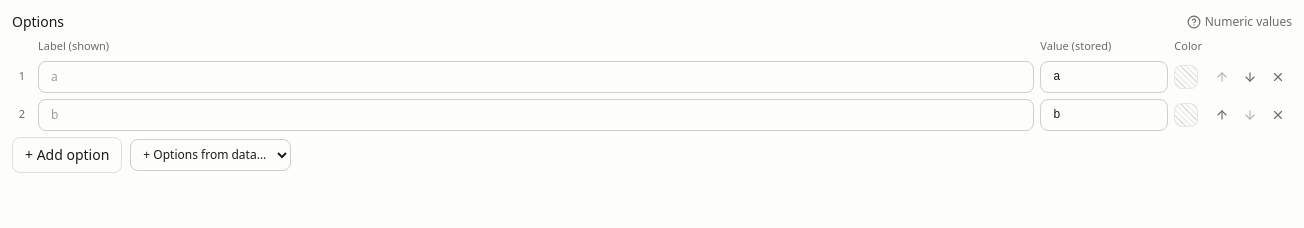
Test: OptionsEditor › options from data: a row among the options that moves, follows a removed option, and goes
The image size is (1304, 228).
Select "people (list)" in the dropdown named "Add options from data" at (211, 154), box [130, 138, 291, 170]
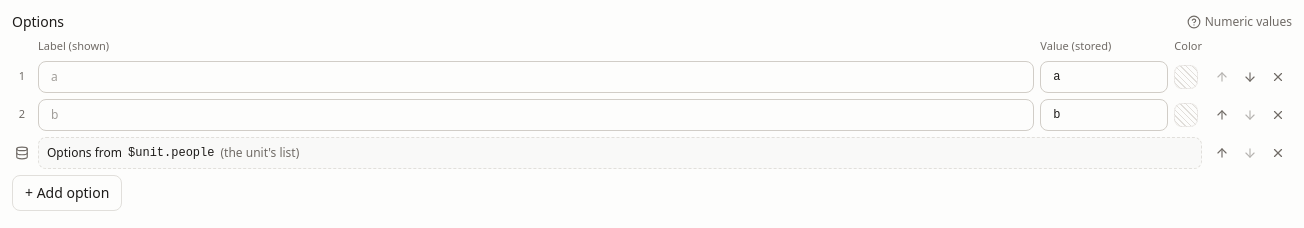
Expected: the button named "Move options from data down" is disabled, [1236, 138, 1264, 166]
Click the button named "Move options from data up".
click(1222, 152)  # box [1208, 138, 1236, 166]
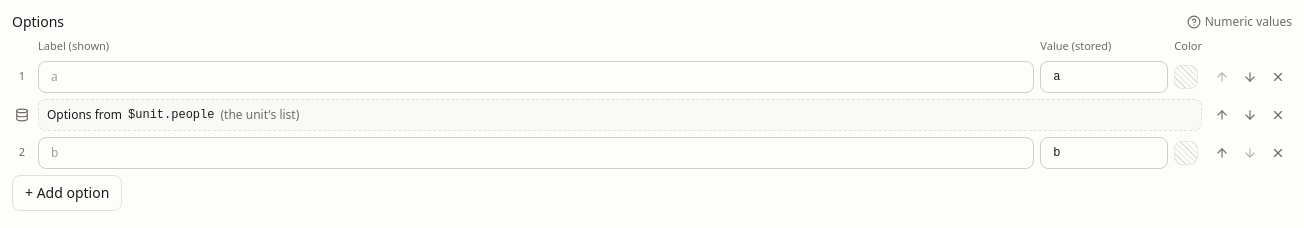
Click the button named "Move options from data up".
click(1222, 114)  # box [1208, 100, 1236, 128]
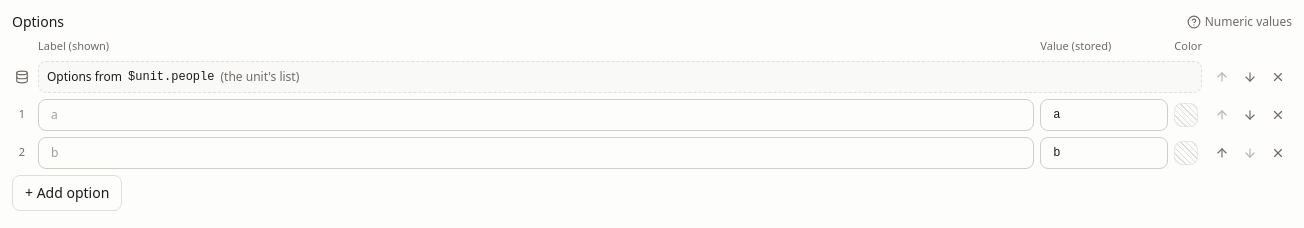
Expected: the button named "Move options from data up" is disabled, [1208, 62, 1236, 90]
Click the button named "Move options from data down".
click(1250, 76)  # box [1236, 62, 1264, 90]
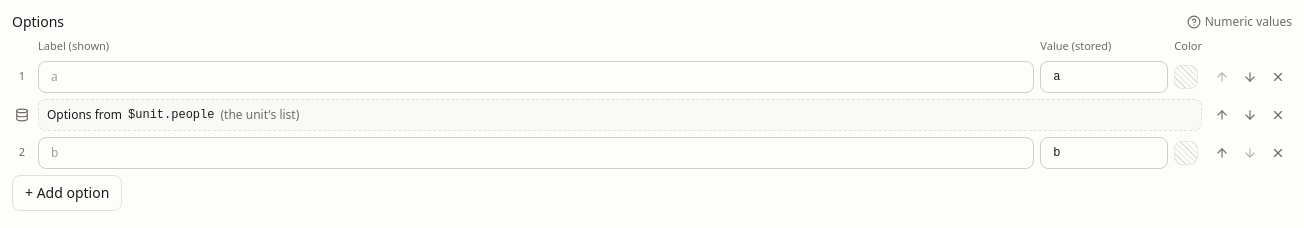
Click the 1st button named "Remove option".
click(1278, 76)  # box [1264, 62, 1292, 90]
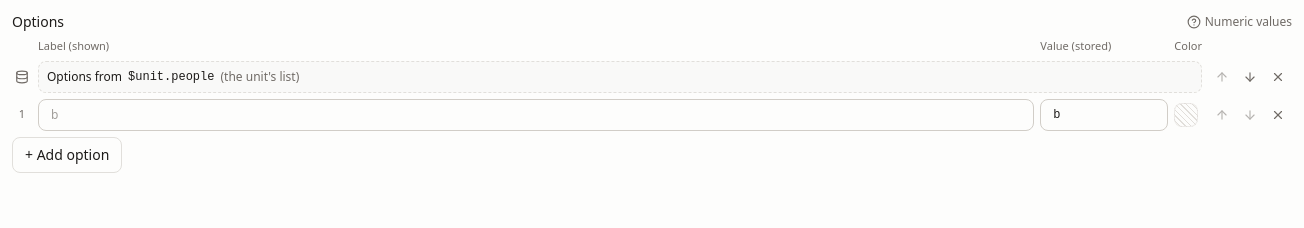
Click the button named "Remove options from data".
click(1278, 76)  # box [1264, 62, 1292, 90]
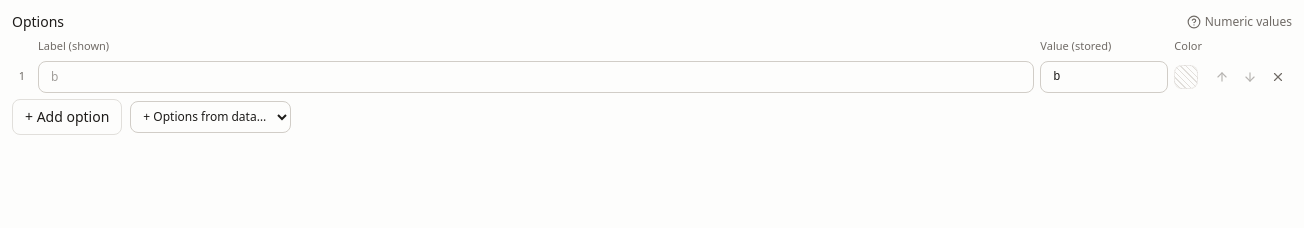
Expected: the dropdown named "Add options from data" is shown, [130, 100, 291, 132]
